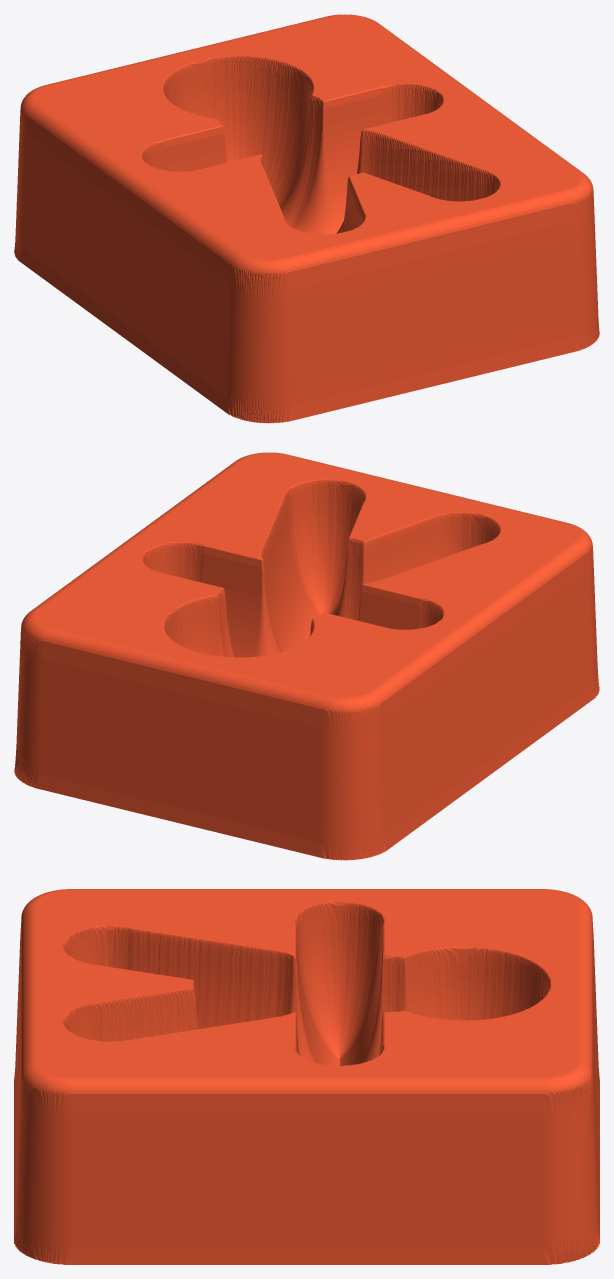
File: mold.glb
3 renders of one model, top to bottom at view 1: azimuth 30°, elevation 25°; view 2: azimuth 150°, elevation 25°; view 3: azimuth 270°, elevation 25°, orthographic. The views are drawn at different scales.
Parts seen in each view (by area): view 1: geometry_0; view 2: geometry_0; view 3: geometry_0.
Boxes of the visible parts, <box> form: geometry_0: <box>14,14,599,423</box>; geometry_0: <box>14,452,599,860</box>; geometry_0: <box>14,889,599,1264</box>.
Size of the model in its own units: 0.0768 by 0.031 by 0.0924.
